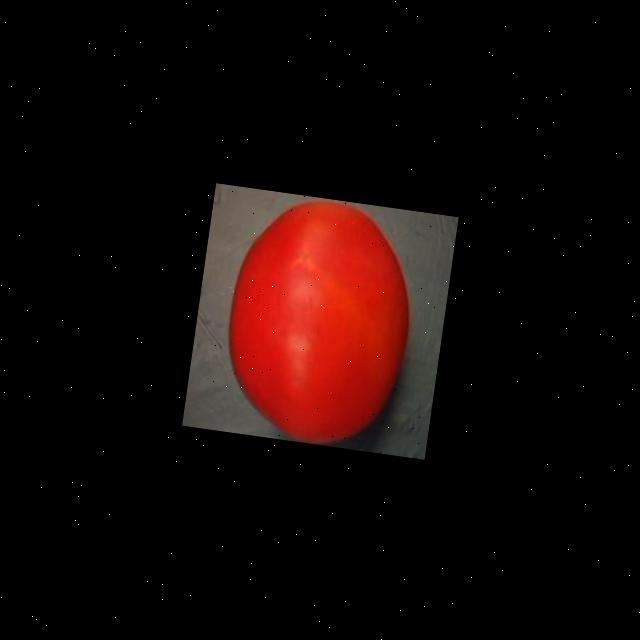tomato: (208, 185, 430, 454)
